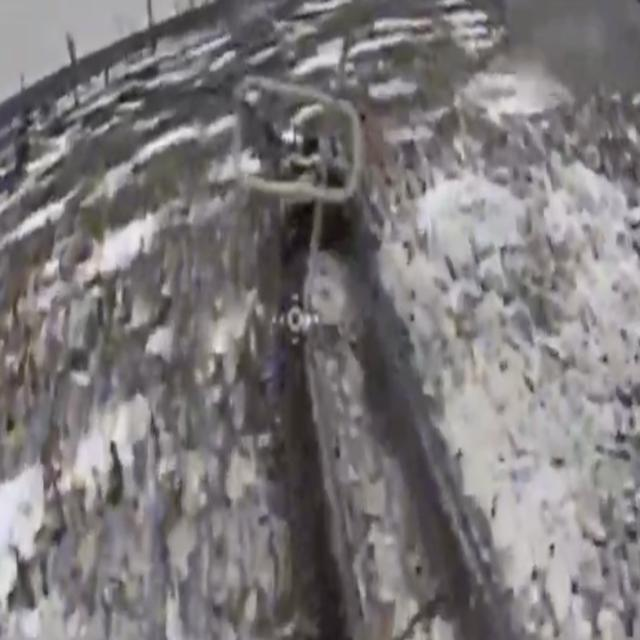vehicle: (266, 124, 360, 260)
